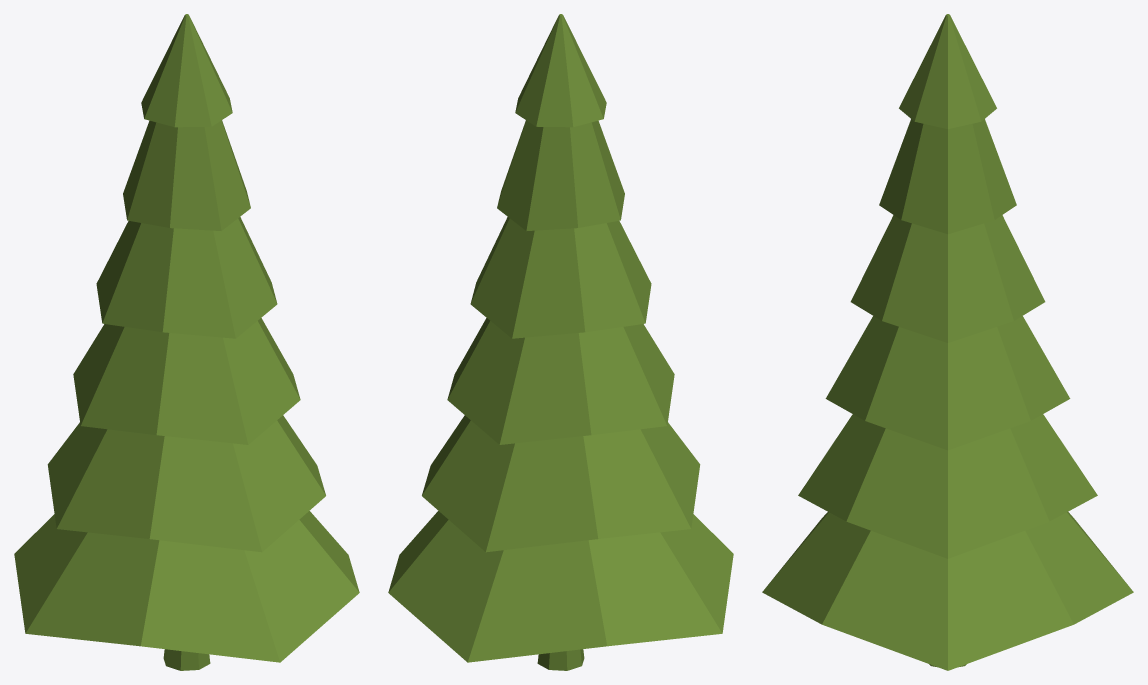
File: Tree1Pine.fbx
3 renders of one model, left to right at view 1: azimuth 30°, elevation 25°; view 2: azimuth 150°, elevation 25°; view 3: azimuth 270°, elevation 25°, orthographic.
Parts seen in each view (by area): view 1: Cylinder.001; view 2: Cylinder.001; view 3: Cylinder.001.
Boxes of the visible parts, x1,y1,x2,y2 form: Cylinder.001: (14,14,359,670); Cylinder.001: (388,14,733,670); Cylinder.001: (762,14,1133,670).
Size of the model in its own units: 149 by 284 by 149.
